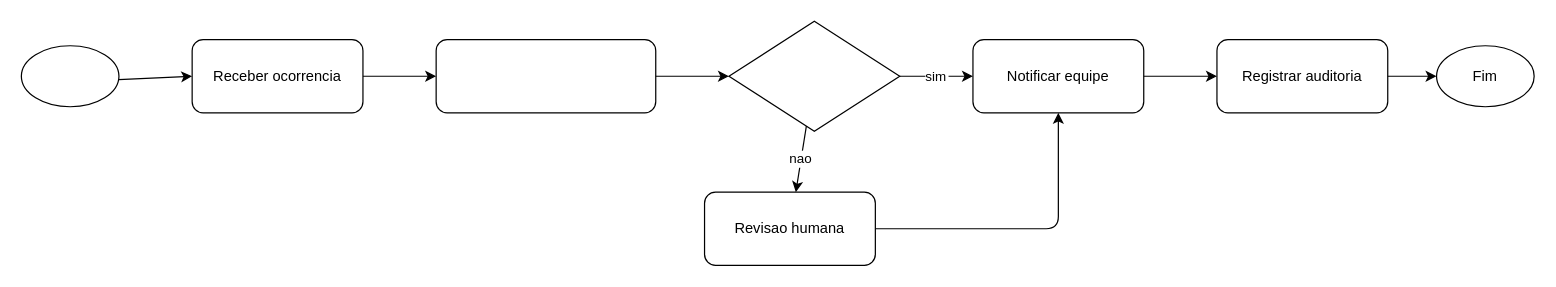
Some shapes in this 1556 by 287 pixel diagram are drawn without their labels. The shapes that lost their labels are listed below. From the top down, each one's centre as x and y in pixels, then its label:
pixel 69 76: Inicio
pixel 545 75: Classificar prioridade e equipe
pixel 814 75: Encaminhar automatico?
